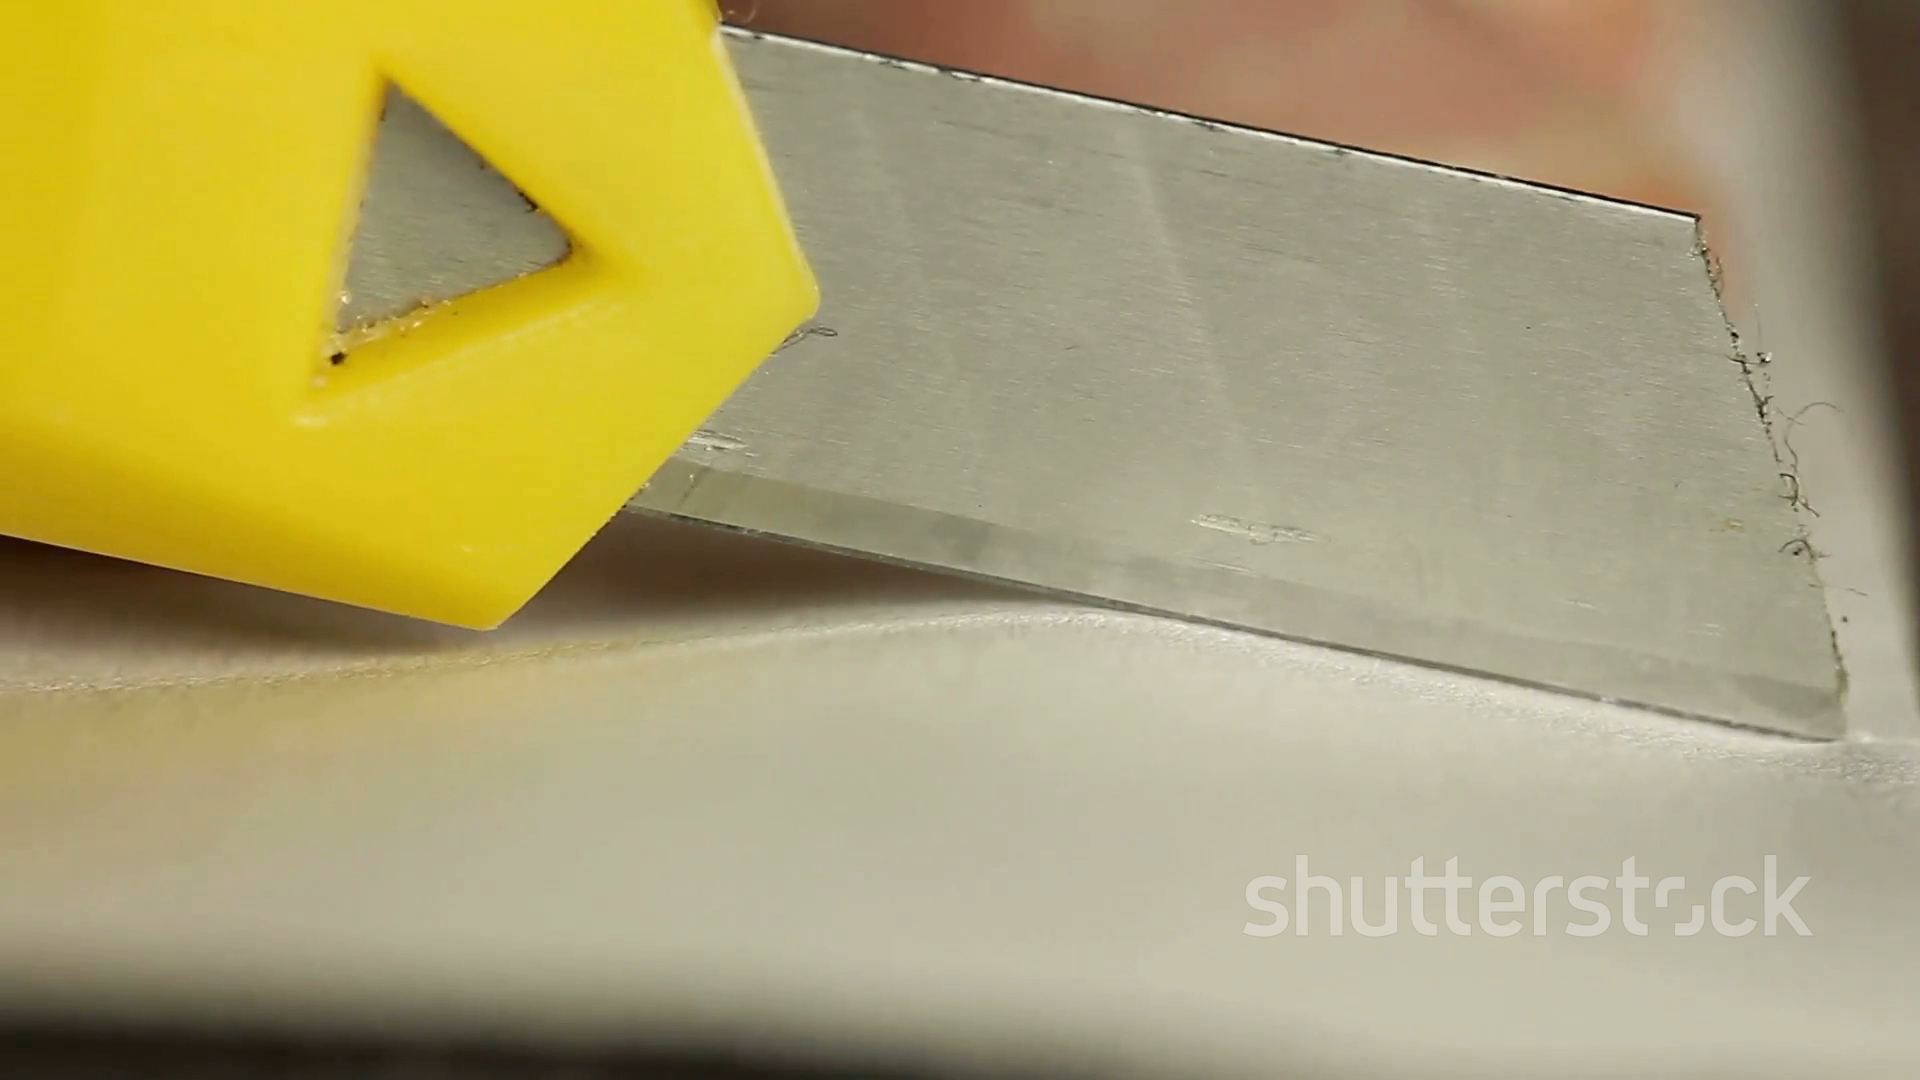cortante: (626, 22, 1845, 746)
